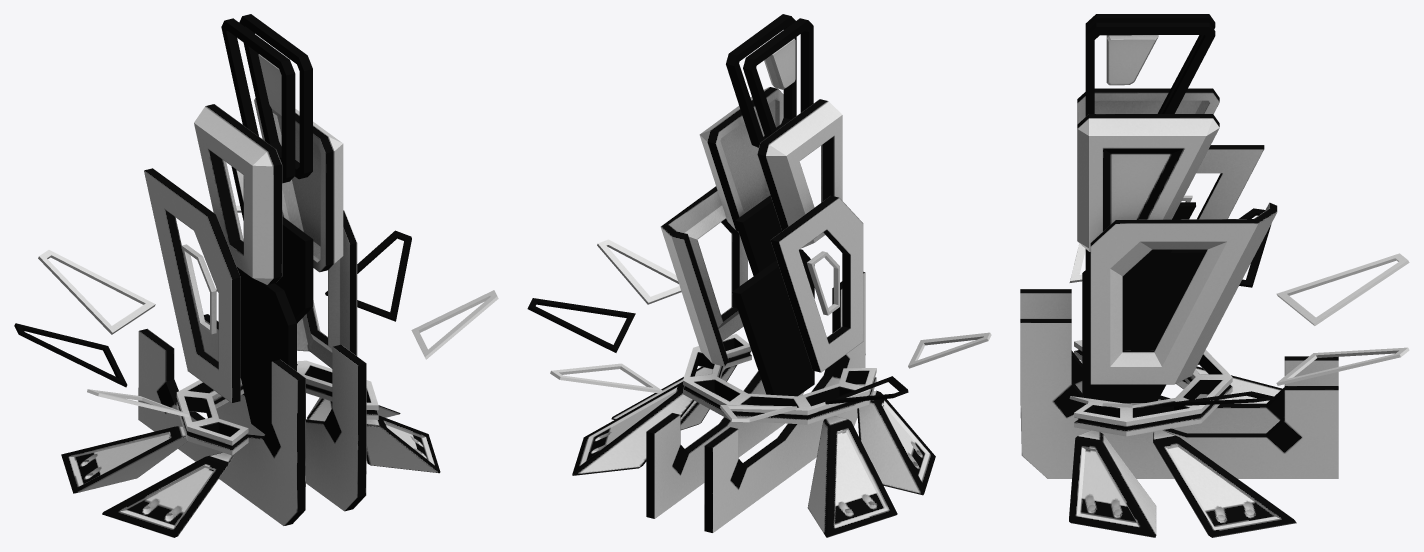
Rendered from OwnResp.fbx.
3 renders of one model, left to right at view 1: azimuth 30°, elevation 25°; view 2: azimuth 150°, elevation 25°; view 3: azimuth 270°, elevation 25°, orthographic. The views are drawn at different scales.
Visible parts, largest first — view 1: Own Resp; view 2: Own Resp; view 3: Own Resp.
Boxes of the visible parts, <box> form: Own Resp: <box>14,14,498,537</box>; Own Resp: <box>527,14,991,537</box>; Own Resp: <box>1020,14,1409,537</box>.
Size of the model in its own units: 202 by 209 by 167.
